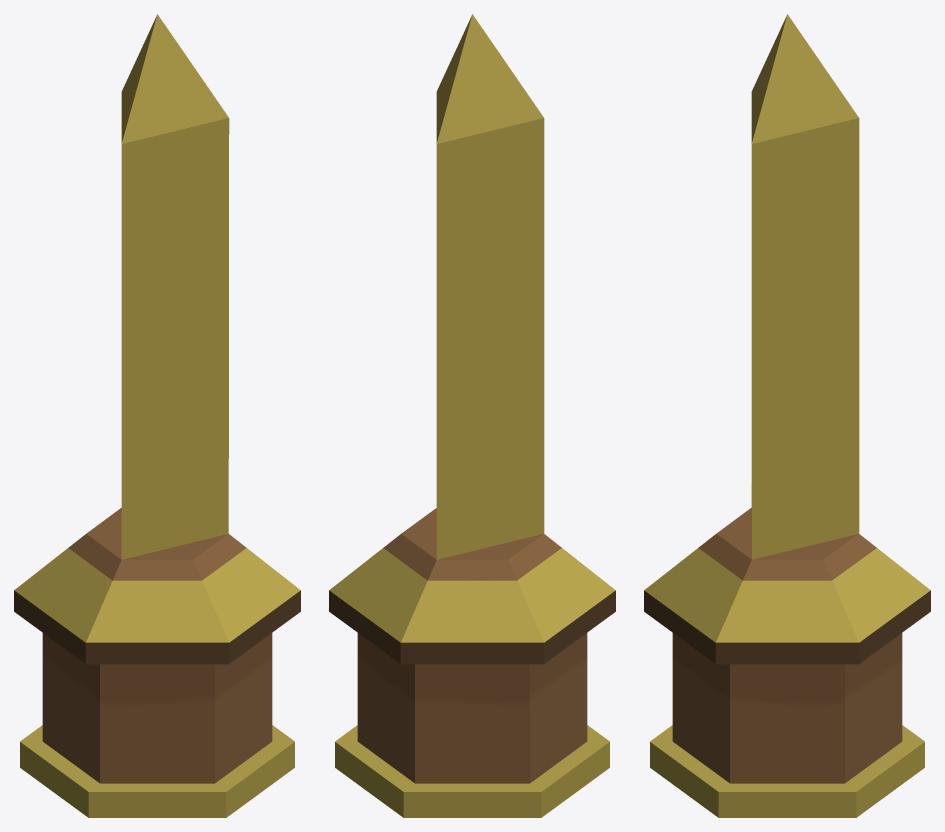
File: pisecnySloup.fbx
3 views of the same model, side by side, from view 1: azimuth 30°, elevation 25°; view 2: azimuth 150°, elevation 25°; view 3: azimuth 270°, elevation 25° (orthographic).
Visible parts, largest first — view 1: Cylinder.001; view 2: Cylinder.001; view 3: Cylinder.001.
Boxes of the visible parts, x1,y1,x2,y2 form: Cylinder.001: [14, 14, 300, 817]; Cylinder.001: [329, 14, 615, 817]; Cylinder.001: [644, 14, 930, 817].
Bounding box in the file's own units: 139 × 464 × 160.
1 material, 1 textured.
